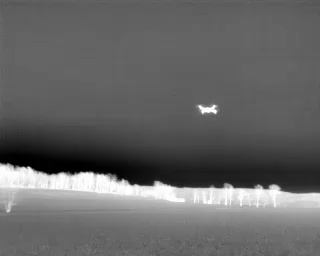DRONE: (193, 99, 223, 121)
